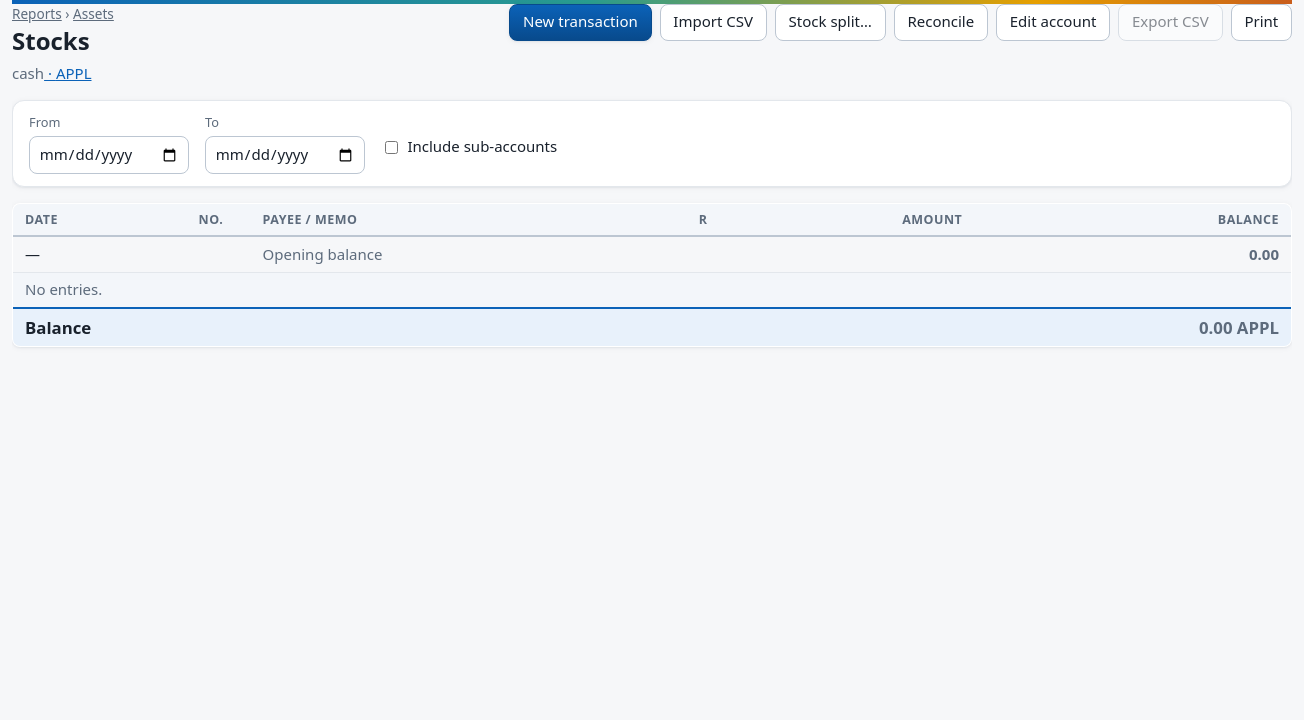
it: posting from the register › refuses a nonsense ratio before it reaches the server
Step 1. Click the button "Stock split…" → click(830, 22), box [775,4,886,40]
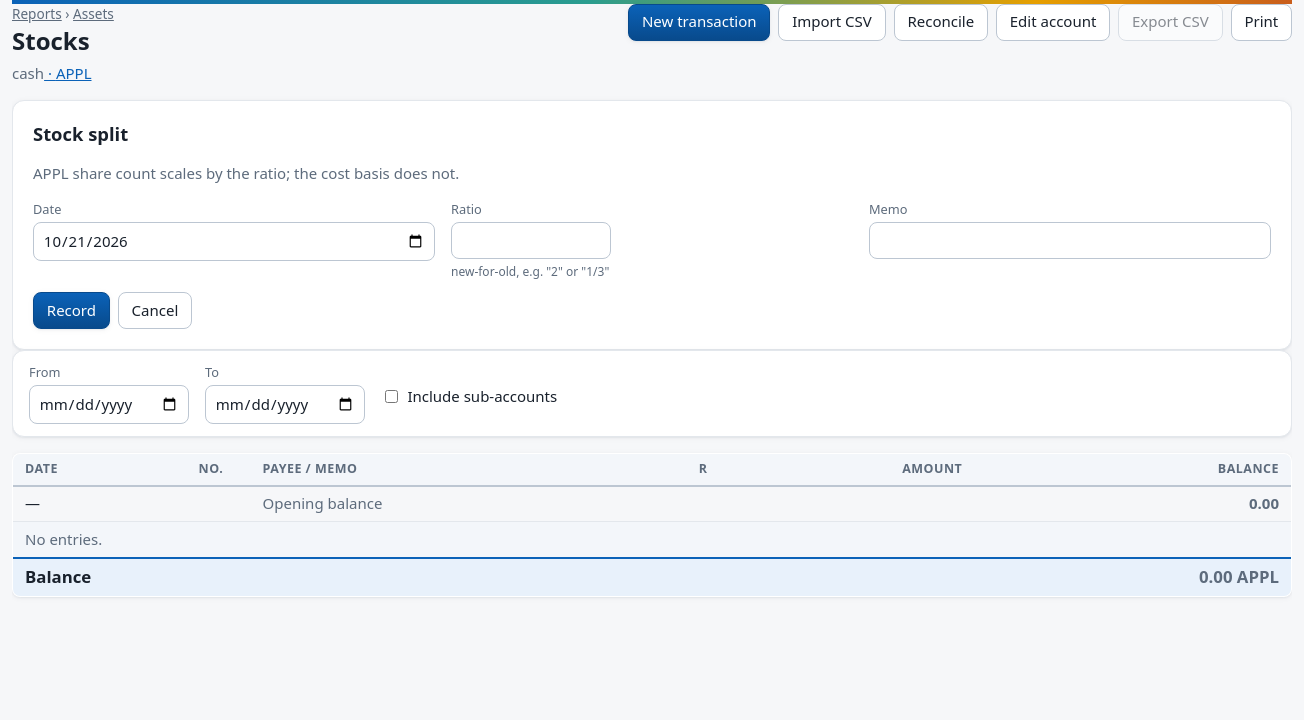
Step 2. Type "1" into the field labelled "Ratio" → (531, 240), box [451,222,611,259]
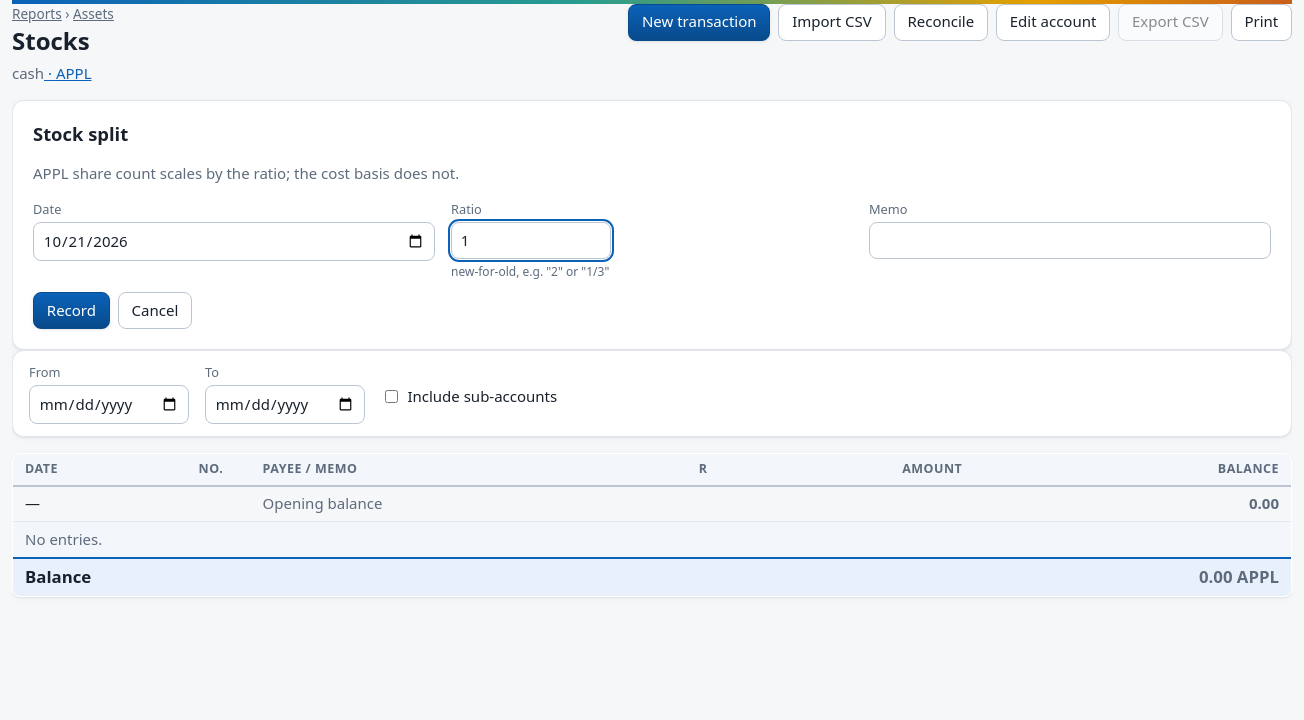
Step 3. Click the button "Record" → click(71, 310), box [33,292,110,329]
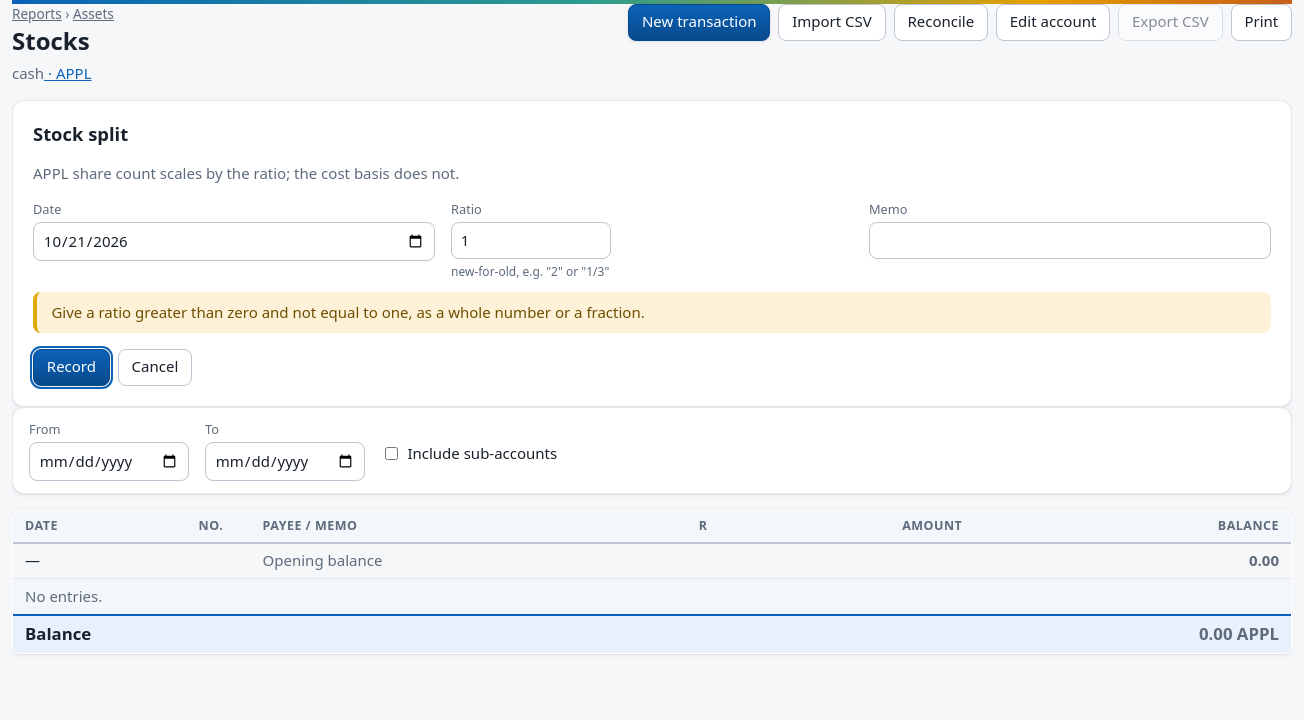
Check: the text "greater than zero and not equal to one" is shown, box [51,302,645,322]
